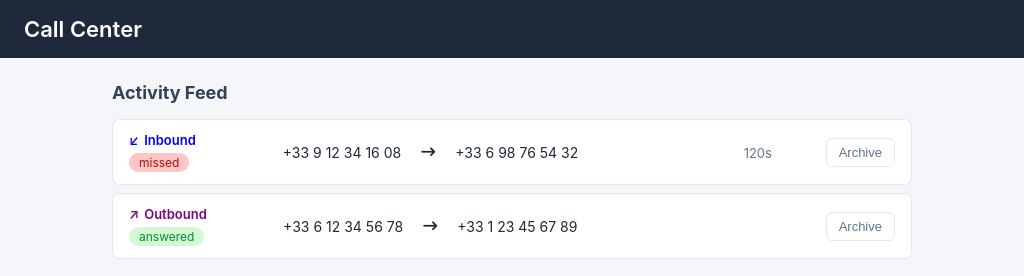
Test: App › should archive a call when the user presses the archive button
Expected: the heading "Activity Feed" is shown, [112,82,228,103]
Click the button "Archive" in the row of "Inbound" at {"x": 860, "y": 152}, box [826,138,895,166]
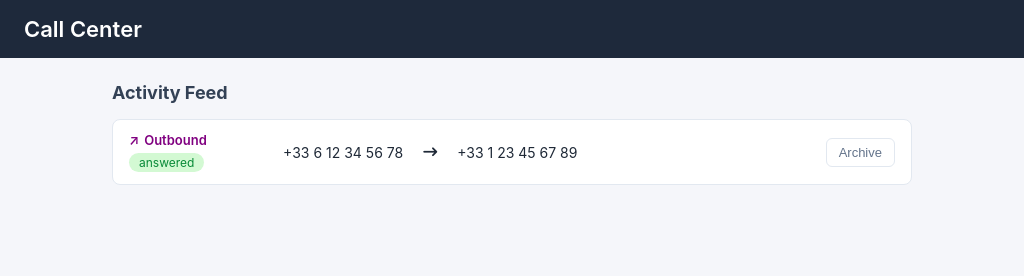
Expected: the list item shows "+33 6 12 34 56 78", [283,144,403,160]
Expected: the number of list items is 1, [112,119,912,185]
